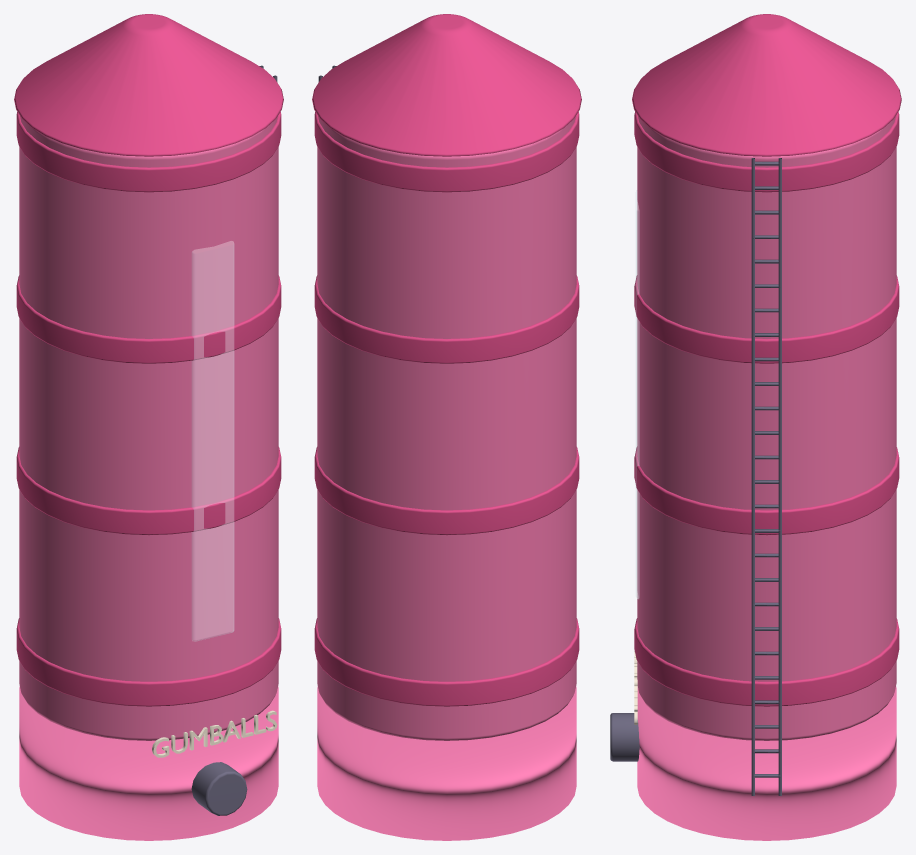
Rendered from candy_silo.glb.
3 renders of one model, left to right at view 1: azimuth 30°, elevation 25°; view 2: azimuth 150°, elevation 25°; view 3: azimuth 270°, elevation 25°, orthographic.
Visible parts, largest first — view 1: Silo; view 2: Silo; view 3: Silo.
Boxes of the visible parts, x1,y1,x2,y2 form: Silo: (14,14,283,840); Silo: (312,14,581,840); Silo: (610,14,901,840).
Bounding box in the file's own units: 5.08 × 15.6 × 5.4.
